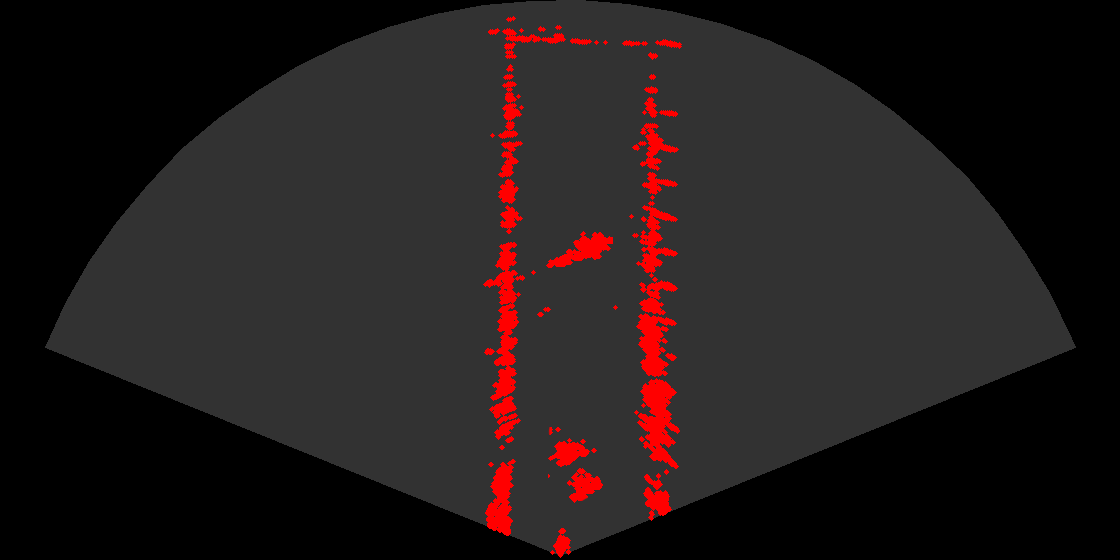cage: (548, 427, 611, 511)
frogman: (545, 225, 613, 272)
